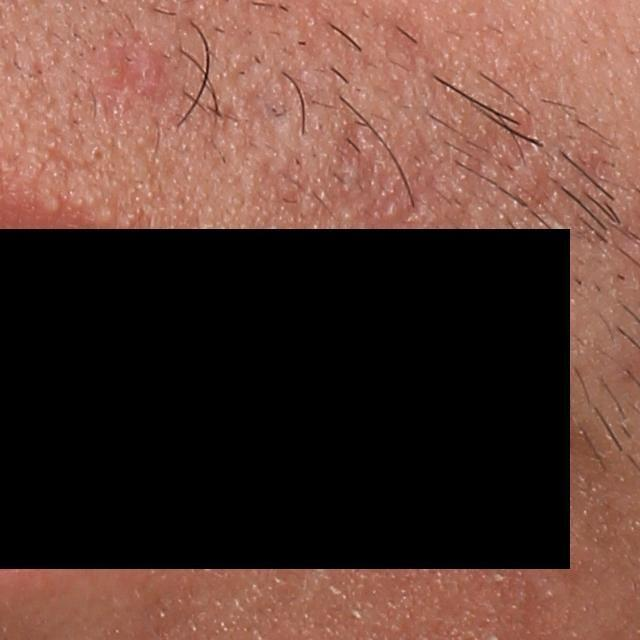comedo: (87, 142, 109, 165)
papule: (127, 54, 163, 89)
